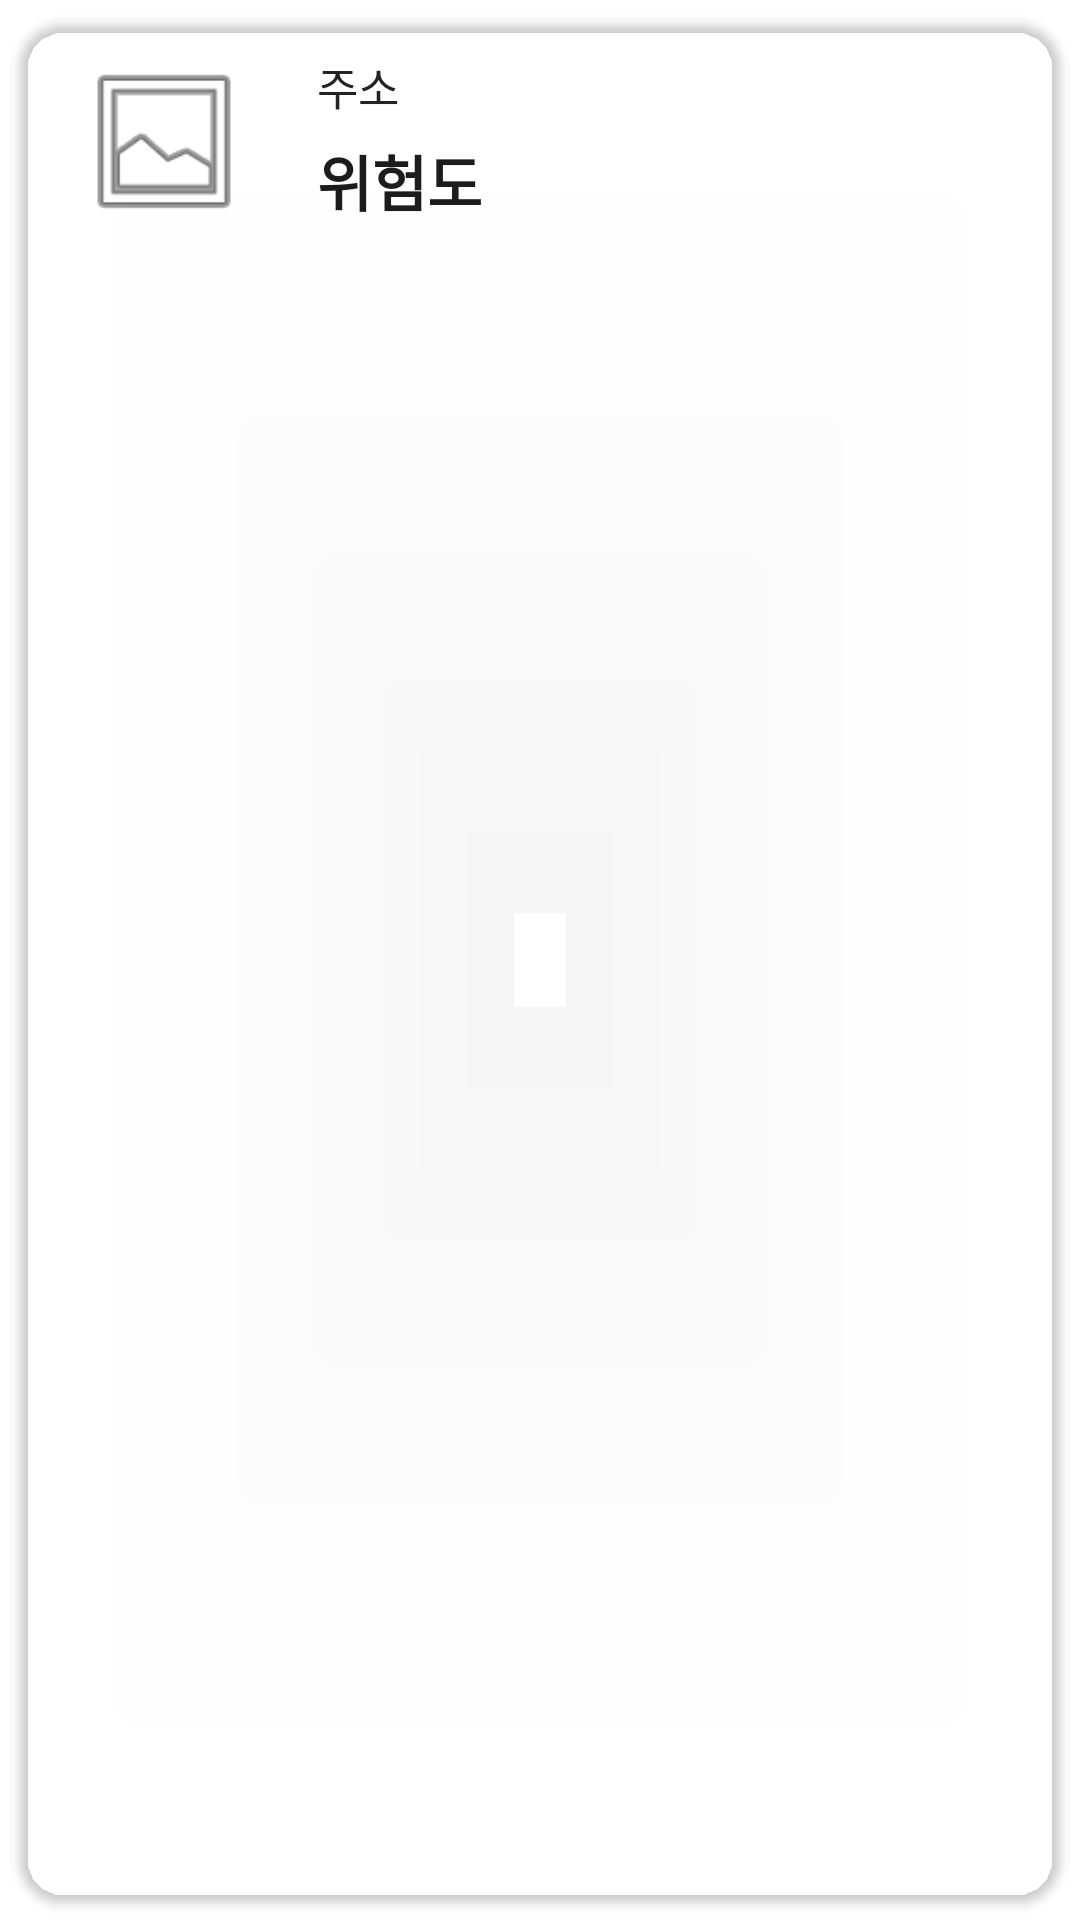

Named icons in this screenshot (1080 × 1920) and their centers, (x=x, y=y):
gallery: (x=164, y=141)
